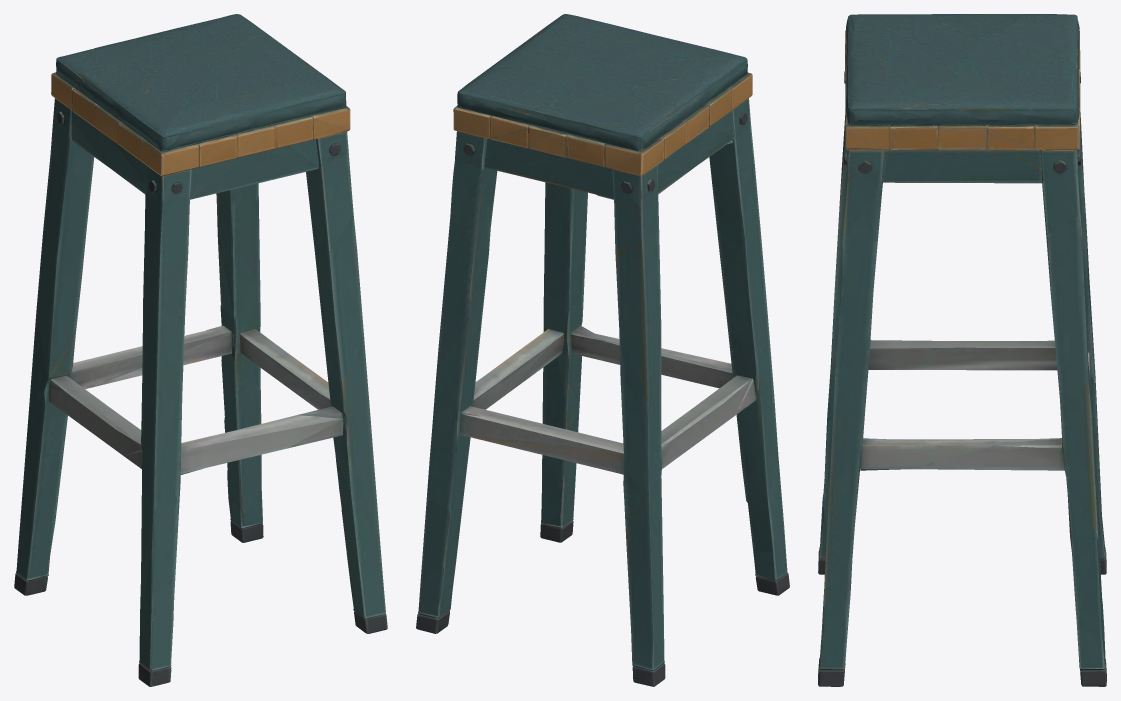
The model's file is barStool.glb.
3 views of the same model, side by side, from view 1: azimuth 30°, elevation 25°; view 2: azimuth 150°, elevation 25°; view 3: azimuth 270°, elevation 25° (orthographic). The views are drawn at different scales.
Visible parts, largest first — view 1: Mesh_0; view 2: Mesh_0; view 3: Mesh_0.
Boxes of the visible parts, <box> form: Mesh_0: <box>14,14,387,686</box>; Mesh_0: <box>416,14,789,686</box>; Mesh_0: <box>818,14,1106,686</box>.
Bounding box in the file's own units: 0.3703 × 0.8 × 0.3671.
Materials: 1 (1 with a texture image).
